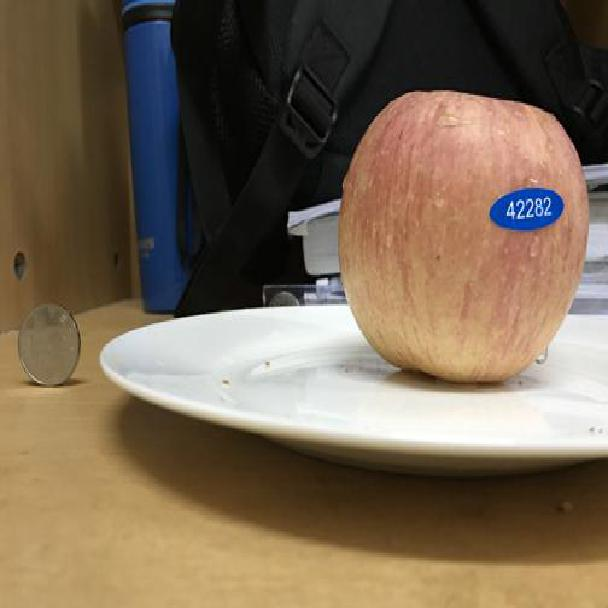apple: (336, 81, 594, 388)
